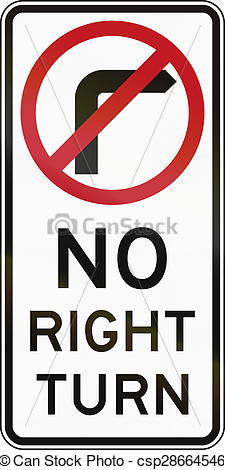No_right_turn: (21, 20, 204, 205)
